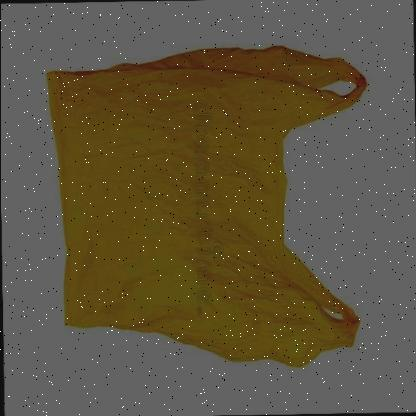Others: (43, 44, 368, 370)
